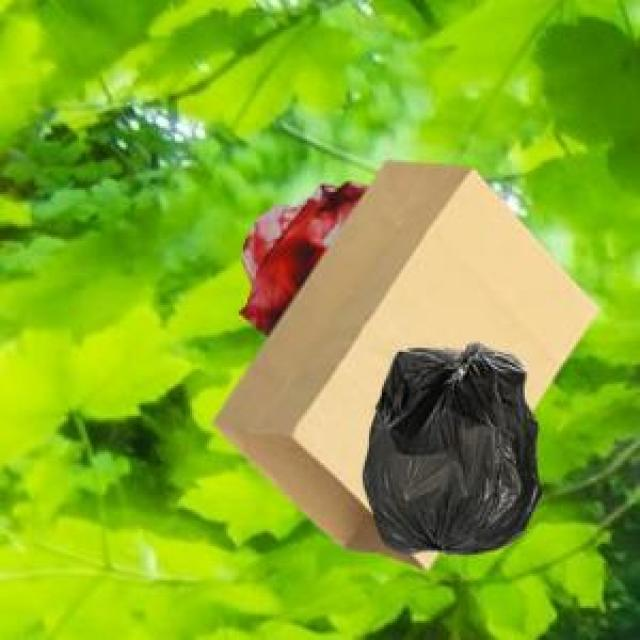miscellaneous trash: (358, 339, 538, 550)
paper: (209, 158, 595, 565)
